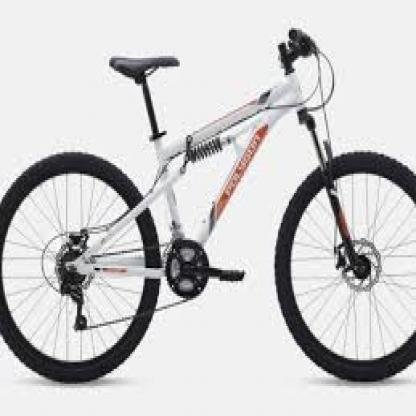Bike: (0, 22, 416, 387)
